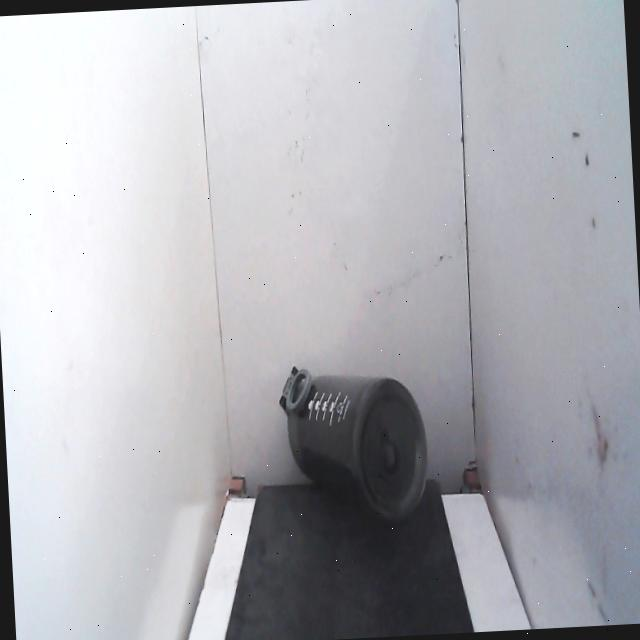plastico: (274, 350, 434, 539)
